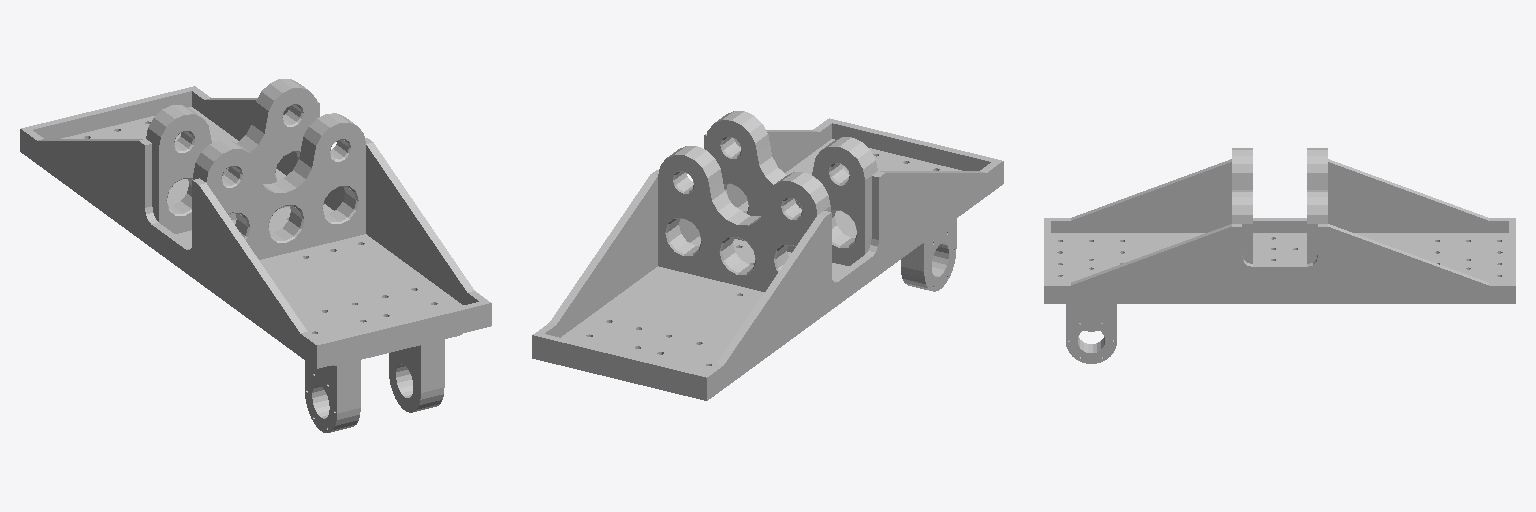
robot.urdf — onrobot_rg2_model:
<?xml version="1.0" ?>
<!-- =================================================================================== -->
<!-- |    This document was autogenerated by xacro from onrobot_rg2_model.xacro        | -->
<!-- |    EDITING THIS FILE BY HAND IS NOT RECOMMENDED                                 | -->
<!-- =================================================================================== -->
<robot name="onrobot_rg2_model">
  <link name="onrobot_rg2_base_link">
    <inertial>
      <origin rpy="0 0 0" xyz="0.0 0.0 0.0"/>
      <mass value="0.7"/>
      <inertia ixx="1.0E-03" ixy="1.0E-06" ixz="1.0E-06" iyy="1.0E-03" iyz="1.0E-06" izz="1.0E-03"/>
    </inertial>
    <visual>
      <origin rpy="0 0 0" xyz="0 0 0"/>
      <geometry>
        <mesh filename="package://onrobot_rg_description/meshes/rg2/visual/base_link.stl"/>
      </geometry>
      <material name="">
        <color rgba="0.8 0.8 0.8 1"/>
      </material>
    </visual>
    <collision>
      <origin rpy="0 0 0" xyz="0 0 0"/>
      <geometry>
        <mesh filename="package://onrobot_rg_description/meshes/rg2/collision/base_link.stl"/>
      </geometry>
    </collision>
  </link>
  <link name="world"/>
  <joint name="joint0" type="fixed">
    <parent link="world"/>
    <child link="onrobot_rg2_base_link"/>
    <origin rpy="0. 0. 0." xyz="0. 0. 0."/>
  </joint>
  <gazebo reference="onrobot_rg2_base_link">
    <mu1>1.0</mu1>
    <mu2>1.0</mu2>
    <selfCollide>false</selfCollide>
    <material>Gazebo/White</material>
  </gazebo>
  <link name="left_outer_knuckle">
    <inertial>
      <origin rpy="0 0 0" xyz="0.0 0.0 0.0"/>
      <mass value="0.05"/>
      <inertia ixx="1.0E-03" ixy="1.0E-06" ixz="1.0E-06" iyy="1.0E-03" iyz="1.0E-06" izz="1.0E-03"/>
    </inertial>
    <visual>
      <origin rpy="0 0 0" xyz="0 0 0"/>
      <geometry>
        <mesh filename="package://onrobot_rg_description/meshes/rg2/visual/outer_knuckle.stl"/>
      </geometry>
      <material name="">
        <color rgba="0.8 0.8 0.8 1"/>
      </material>
    </visual>
    <collision>
      <origin rpy="0 0 0" xyz="0 0 0"/>
      <geometry>
        <mesh filename="package://onrobot_rg_description/meshes/rg2/collision/outer_knuckle.stl"/>
      </geometry>
    </collision>
  </link>
  <gazebo reference="left_outer_knuckle">
    <mu1>0.1</mu1>
    <mu2>0.1</mu2>
    <selfCollide>false</selfCollide>
    <material>Gazebo/White</material>
  </gazebo>
  <link name="left_inner_knuckle">
    <inertial>
      <origin rpy="0 0 0" xyz="0.0 0.0 0.0"/>
      <mass value="0.05"/>
      <inertia ixx="1.0E-03" ixy="1.0E-06" ixz="1.0E-06" iyy="1.0E-03" iyz="1.0E-06" izz="1.0E-03"/>
    </inertial>
    <visual>
      <origin rpy="0 0 0" xyz="0 0 0"/>
      <geometry>
        <mesh filename="package://onrobot_rg_description/meshes/rg2/visual/inner_knuckle.stl"/>
      </geometry>
      <material name="">
        <color rgba="0.8 0.8 0.8 1"/>
      </material>
    </visual>
    <collision>
      <origin rpy="0 0 0" xyz="0 0 0"/>
      <geometry>
        <mesh filename="package://onrobot_rg_description/meshes/rg2/collision/inner_knuckle.stl"/>
      </geometry>
    </collision>
  </link>
  <gazebo reference="left_inner_knuckle">
    <mu1>0.1</mu1>
    <mu2>0.1</mu2>
    <selfCollide>false</selfCollide>
    <material>Gazebo/White</material>
  </gazebo>
  <link name="left_inner_finger">
    <inertial>
      <origin rpy="0 0 0" xyz="0.0 0.0 0.0"/>
      <mass value="0.05"/>
      <inertia ixx="1.0E-03" ixy="1.0E-06" ixz="1.0E-06" iyy="1.0E-03" iyz="1.0E-06" izz="1.0E-03"/>
    </inertial>
    <visual>
      <origin rpy="0 0 0" xyz="0 0 0"/>
      <geometry>
        <mesh filename="package://onrobot_rg_description/meshes/rg2/visual/inner_finger.stl"/>
      </geometry>
      <material name="">
        <color rgba="0.1 0.1 0.1 1"/>
      </material>
    </visual>
    <collision>
      <origin rpy="0 0 0" xyz="0 0 0"/>
      <geometry>
        <mesh filename="package://onrobot_rg_description/meshes/rg2/collision/inner_finger.stl"/>
      </geometry>
    </collision>
  </link>
  <gazebo reference="left_inner_finger">
    <kp>1000000.0</kp>
    <kd>1.0</kd>
    <kd>1.0</kd>
    <mu1>1.0</mu1>
    <mu2>1.0</mu2>
    <minDepth>0.00001</minDepth>
    <selfCollide>false</selfCollide>
    <material>Gazebo/Black</material>
  </gazebo>
  <link name="right_outer_knuckle">
    <inertial>
      <origin rpy="0 0 0" xyz="0.0 0.0 0.0"/>
      <mass value="0.05"/>
      <inertia ixx="1.0E-03" ixy="1.0E-06" ixz="1.0E-06" iyy="1.0E-03" iyz="1.0E-06" izz="1.0E-03"/>
    </inertial>
    <visual>
      <origin rpy="0 0 0" xyz="0 0 0"/>
      <geometry>
        <mesh filename="package://onrobot_rg_description/meshes/rg2/visual/outer_knuckle.stl"/>
      </geometry>
      <material name="">
        <color rgba="0.8 0.8 0.8 1"/>
      </material>
    </visual>
    <collision>
      <origin rpy="0 0 0" xyz="0 0 0"/>
      <geometry>
        <mesh filename="package://onrobot_rg_description/meshes/rg2/collision/outer_knuckle.stl"/>
      </geometry>
    </collision>
  </link>
  <gazebo reference="right_outer_knuckle">
    <mu1>0.1</mu1>
    <mu2>0.1</mu2>
    <selfCollide>false</selfCollide>
    <material>Gazebo/White</material>
  </gazebo>
  <link name="right_inner_knuckle">
    <inertial>
      <origin rpy="0 0 0" xyz="0.0 0.0 0.0"/>
      <mass value="0.05"/>
      <inertia ixx="1.0E-03" ixy="1.0E-06" ixz="1.0E-06" iyy="1.0E-03" iyz="1.0E-06" izz="1.0E-03"/>
    </inertial>
    <visual>
      <origin rpy="0 0 0" xyz="0 0 0"/>
      <geometry>
        <mesh filename="package://onrobot_rg_description/meshes/rg2/visual/inner_knuckle.stl"/>
      </geometry>
      <material name="">
        <color rgba="0.8 0.8 0.8 1"/>
      </material>
    </visual>
    <collision>
      <origin rpy="0 0 0" xyz="0 0 0"/>
      <geometry>
        <mesh filename="package://onrobot_rg_description/meshes/rg2/collision/inner_knuckle.stl"/>
      </geometry>
    </collision>
  </link>
  <gazebo reference="right_inner_knuckle">
    <mu1>0.1</mu1>
    <mu2>0.1</mu2>
    <selfCollide>false</selfCollide>
    <material>Gazebo/White</material>
  </gazebo>
  <link name="right_inner_finger">
    <inertial>
      <origin rpy="0 0 0" xyz="0.0 0.0 0.0"/>
      <mass value="0.05"/>
      <inertia ixx="1.0E-03" ixy="1.0E-06" ixz="1.0E-06" iyy="1.0E-03" iyz="1.0E-06" izz="1.0E-03"/>
    </inertial>
    <visual>
      <origin rpy="0 0 0" xyz="0 0 0"/>
      <geometry>
        <mesh filename="package://onrobot_rg_description/meshes/rg2/visual/inner_finger.stl"/>
      </geometry>
      <material name="">
        <color rgba="0.1 0.1 0.1 1"/>
      </material>
    </visual>
    <collision>
      <origin rpy="0 0 0" xyz="0 0 0"/>
      <geometry>
        <mesh filename="package://onrobot_rg_description/meshes/rg2/collision/inner_finger.stl"/>
      </geometry>
    </collision>
  </link>
  <gazebo reference="right_inner_finger">
    <kp>1000000.0</kp>
    <kd>1.0</kd>
    <kd>1.0</kd>
    <mu1>1.0</mu1>
    <mu2>1.0</mu2>
    <minDepth>0.00001</minDepth>
    <selfCollide>false</selfCollide>
    <material>Gazebo/Black</material>
  </gazebo>
  <joint name="finger_joint" type="revolute">
    <origin rpy="0 0 0" xyz="0 -0.017178 0.125797"/>
    <parent link="onrobot_rg2_base_link"/>
    <child link="left_outer_knuckle"/>
    <axis xyz="-1 0 0"/>
    <limit effort="1000" lower="-0.558505" upper="0.785398" velocity="100.0"/>
  </joint>
  <joint name="left_inner_knuckle_joint" type="revolute">
    <origin rpy="0 0 0.0" xyz="0 -0.007678 0.1422970"/>
    <parent link="onrobot_rg2_base_link"/>
    <child link="left_inner_knuckle"/>
    <axis xyz="1 0 0"/>
    <limit effort="1000" lower="-0.785398" upper="0.785398" velocity="100.0"/>
    <mimic joint="finger_joint" multiplier="-1" offset="0"/>
  </joint>
  <joint name="left_inner_finger_joint" type="revolute">
    <origin rpy="0 0 0" xyz="0 -0.039592 0.038177000000000016"/>
    <parent link="left_outer_knuckle"/>
    <child link="left_inner_finger"/>
    <axis xyz="1 0 0"/>
    <limit effort="1000" lower="-0.872665" upper="0.872665" velocity="100.0"/>
    <mimic joint="finger_joint" multiplier="1" offset="0"/>
  </joint>
  <joint name="right_outer_knuckle_joint" type="revolute">
    <origin rpy="0 0 3.141592653589793" xyz="0 0.017178 0.125797"/>
    <parent link="onrobot_rg2_base_link"/>
    <child link="right_outer_knuckle"/>
    <axis xyz="1 0 0"/>
    <limit effort="1000" lower="-0.785398" upper="0.785398" velocity="100.0"/>
    <mimic joint="finger_joint" multiplier="-1" offset="0"/>
  </joint>
  <joint name="right_inner_knuckle_joint" type="revolute">
    <origin rpy="0 0 -3.141592653589793" xyz="0 0.007678 0.1422970"/>
    <parent link="onrobot_rg2_base_link"/>
    <child link="right_inner_knuckle"/>
    <axis xyz="1 0 0"/>
    <limit effort="1000" lower="-0.785398" upper="0.785398" velocity="100.0"/>
    <mimic joint="finger_joint" multiplier="-1" offset="0"/>
  </joint>
  <joint name="right_inner_finger_joint" type="revolute">
    <origin rpy="0 0 0" xyz="0 -0.039592 0.038177000000000016"/>
    <parent link="right_outer_knuckle"/>
    <child link="right_inner_finger"/>
    <axis xyz="1 0 0"/>
    <limit effort="1000" lower="-0.872665" upper="0.872665" velocity="100.0"/>
    <mimic joint="finger_joint" multiplier="1" offset="0"/>
  </joint>
</robot>

--- Facts derived from the render (not from the file) ---
3 views of the same robot in one strip: view 1: azimuth 30°, elevation 25°; view 2: azimuth 150°, elevation 25°; view 3: azimuth 270°, elevation 25° (orthographic).
Robot: onrobot_rg2_model — 8 links, 7 joints (6 revolute, 1 fixed); root link world; default pose: every joint at zero.
Visible links, largest first — view 1: onrobot_rg2_base_link; view 2: onrobot_rg2_base_link; view 3: onrobot_rg2_base_link.
Boxes of the visible links, x1,y1,x2,y2 form: onrobot_rg2_base_link: (20, 79, 491, 432); onrobot_rg2_base_link: (532, 111, 1003, 400); onrobot_rg2_base_link: (1044, 148, 1515, 363).
Bounding box of the posed robot: 0.2336 × 0.687 × 0.2772 m (x, y, z).
Meshes: 4 distinct files referenced, 1 mesh visuals loaded (1 binary STL); not drawn: 6 (reference not matched to a file when rendering).